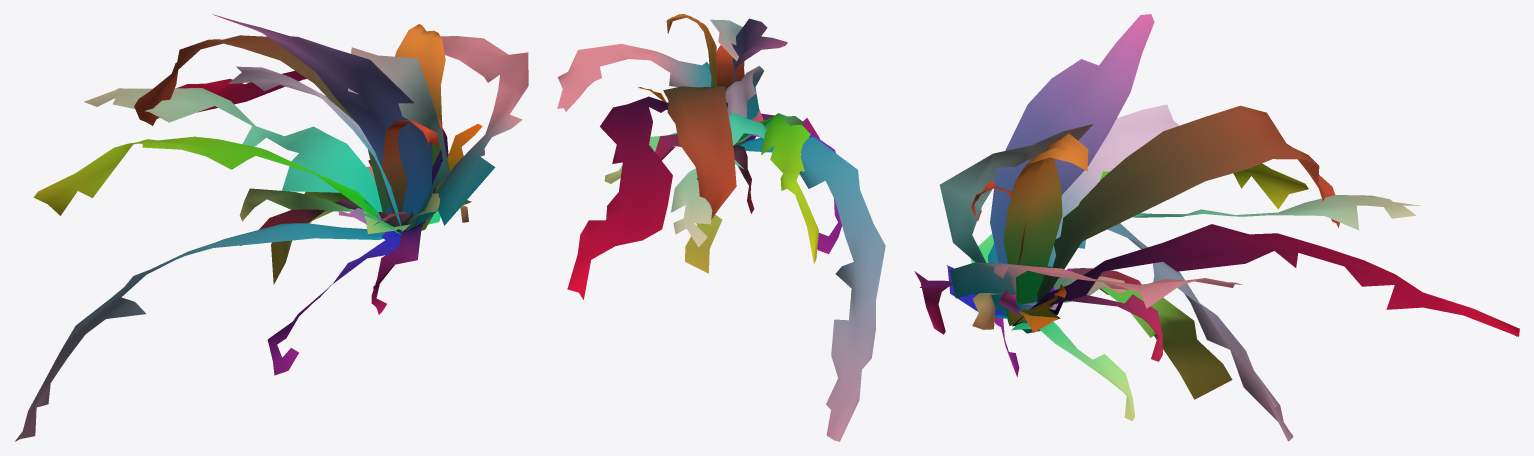
The model's file is Fern_sbslY_High_sbslY_VarF_LOD0.fbx.
3 views of the same model, side by side, from view 1: azimuth 30°, elevation 25°; view 2: azimuth 150°, elevation 25°; view 3: azimuth 270°, elevation 25° (orthographic). The views are drawn at different scales.
Visible parts, largest first — view 1: _1fba_VarF_LOD0; view 2: _1fba_VarF_LOD0; view 3: _1fba_VarF_LOD0.
Boxes of the visible parts, left/top/right/bottom form: _1fba_VarF_LOD0: left=15, top=14, right=528, bottom=441; _1fba_VarF_LOD0: left=557, top=14, right=885, bottom=441; _1fba_VarF_LOD0: left=914, top=14, right=1519, bottom=441.
Bounding box in the file's own units: 99.96 × 95.97 × 107.
